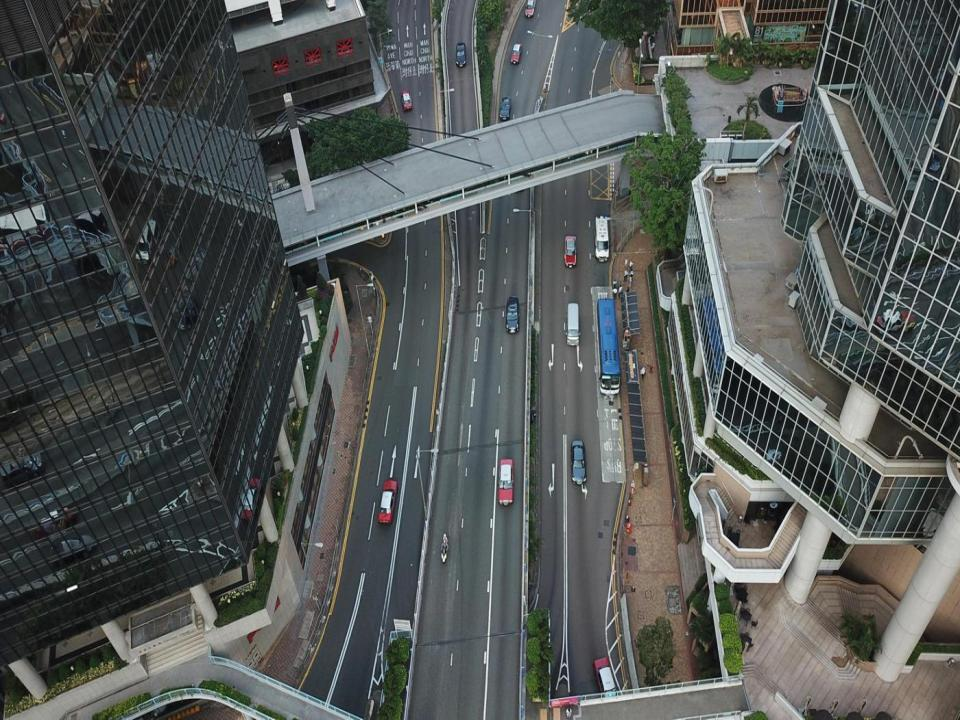bus: (595, 298, 622, 396)
car: (592, 656, 618, 705), (376, 480, 397, 524), (498, 457, 515, 508), (570, 440, 586, 485), (506, 297, 520, 334), (564, 233, 576, 268), (498, 95, 511, 121), (455, 40, 466, 68), (400, 90, 413, 112), (510, 42, 522, 64), (523, 0, 536, 18)
van: (594, 216, 610, 264), (566, 302, 582, 346)
